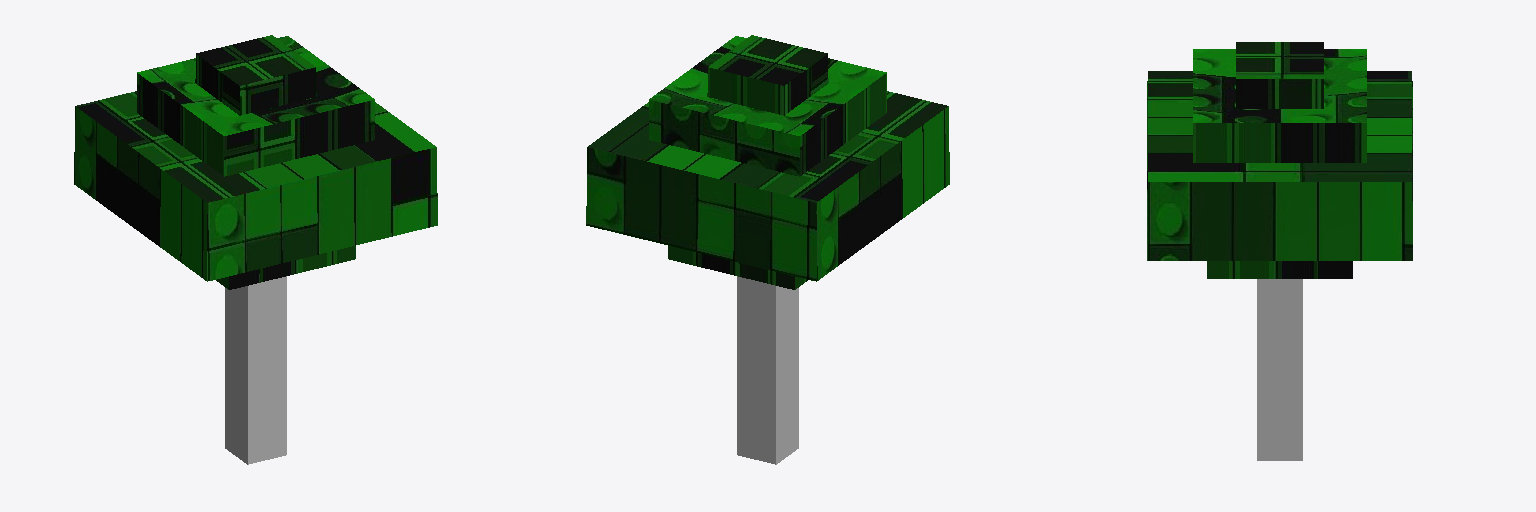
3 renders of one model, left to right at view 1: azimuth 30°, elevation 25°; view 2: azimuth 150°, elevation 25°; view 3: azimuth 270°, elevation 25°, orthographic.
Parts seen in each view (by area): view 1: hojas_Cube.006, tronco__Cube.005; view 2: hojas_Cube.006, tronco__Cube.005; view 3: hojas_Cube.006, tronco__Cube.005.
Boxes of the visible parts, x1,y1,x2,y2 form: hojas_Cube.006: [74, 35, 437, 289]; tronco__Cube.005: [225, 276, 286, 464]; hojas_Cube.006: [586, 35, 949, 289]; tronco__Cube.005: [737, 276, 798, 464]; hojas_Cube.006: [1147, 42, 1412, 278]; tronco__Cube.005: [1257, 279, 1302, 460].
Size of the model in its own units: 11.56 by 18.73 by 11.56.
Materials: 2 (1 with a texture image).